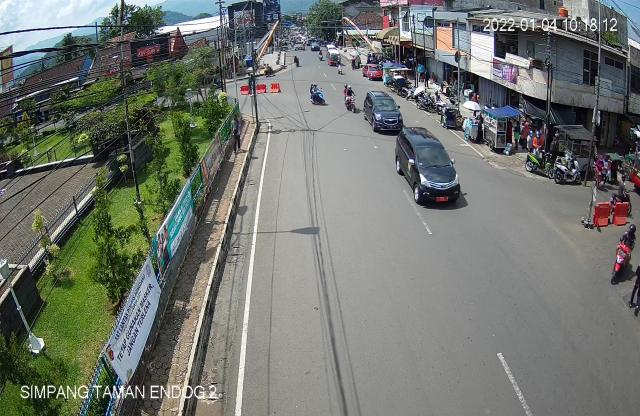Mobil: (392, 124, 464, 209), (361, 88, 405, 136)
Motor: (608, 220, 637, 286), (551, 153, 584, 187), (525, 144, 554, 182), (342, 81, 361, 115), (308, 80, 330, 109)
